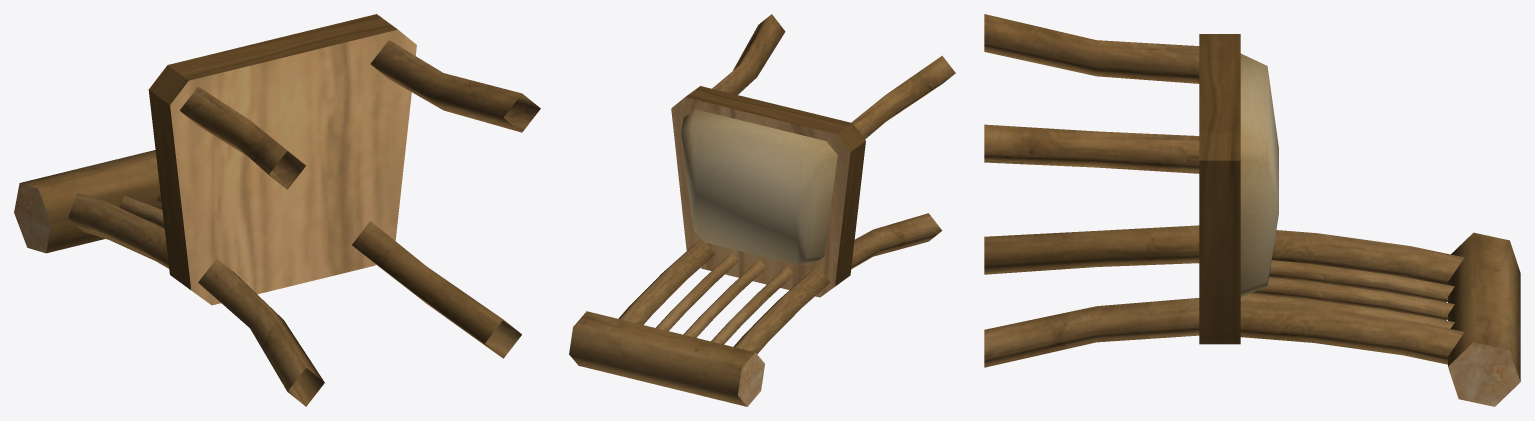
Rendered from Log_Chair_B.fbx.
The picture shows the model from 3 angles, left to right: view 1: azimuth 30°, elevation 25°; view 2: azimuth 150°, elevation 25°; view 3: azimuth 270°, elevation 25°; orthographic projection. The views are drawn at different scales.
Parts seen in each view (by area): view 1: Log_Chair_B; view 2: Log_Chair_B; view 3: Log_Chair_B.
Boxes of the visible parts, bbox=[...] form: Log_Chair_B: bbox=[14, 14, 540, 406]; Log_Chair_B: bbox=[569, 14, 955, 406]; Log_Chair_B: bbox=[984, 14, 1520, 406].
Bounding box in the file's own units: 0.0569 × 0.0582 × 0.1005.
